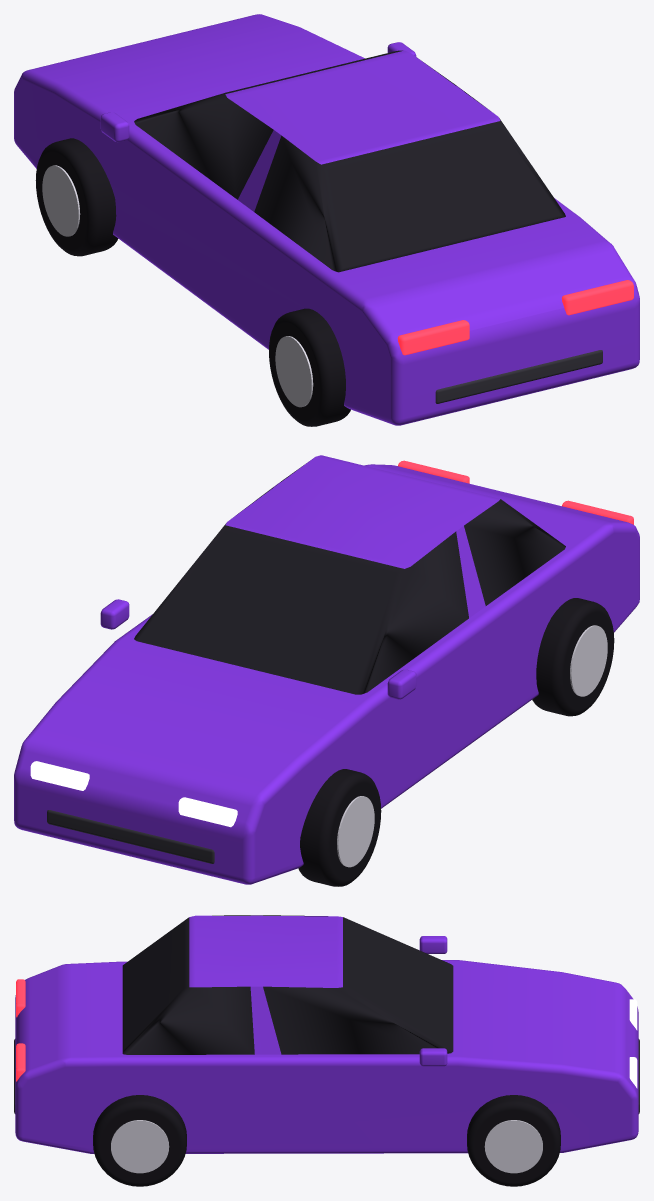
File: car_sedan.glb
The picture shows the model from 3 angles, top to bottom: view 1: azimuth 30°, elevation 25°; view 2: azimuth 150°, elevation 25°; view 3: azimuth 270°, elevation 25°; orthographic projection. The views are drawn at different scales.
Visible parts, largest first — view 1: Body, Cabin, W-11Tyre, W-1-1Tyre, RearStrip, W-11Rim, W-1-1Rim, Tail-1, Tail1, Mirror-1; view 2: Body, Cabin, W-11Tyre, W-1-1Tyre, FrontStrip, W-1-1Rim, W-11Rim, Head-1, Head1, Mirror1, Mirror-1; view 3: Body, Cabin, W11Tyre, W1-1Tyre, W1-1Rim, W11Rim, Mirror1, Mirror-1.
Part boxes in pixels (left/top/right/bottom): Body: left=14, top=14, right=639, bottom=425; Cabin: left=134, top=50, right=565, bottom=272; W-11Tyre: left=35, top=138, right=118, bottom=256; W-1-1Tyre: left=269, top=308, right=350, bottom=426; RearStrip: left=435, top=350, right=602, bottom=403; W-11Rim: left=42, top=165, right=80, bottom=236; W-1-1Rim: left=275, top=336, right=313, bottom=407; Tail-1: left=397, top=320, right=469, bottom=355; Tail1: left=561, top=280, right=633, bottom=315; Mirror-1: left=100, top=112, right=129, bottom=142; Body: left=14, top=464, right=639, bottom=884; Cabin: left=134, top=455, right=565, bottom=694; W-11Tyre: left=298, top=769, right=381, bottom=886; W-1-1Tyre: left=532, top=598, right=614, bottom=716; FrontStrip: left=47, top=810, right=214, bottom=863; W-1-1Rim: left=570, top=625, right=607, bottom=696; W-11Rim: left=337, top=796, right=374, bottom=867; Head-1: left=178, top=797, right=237, bottom=827; Head1: left=30, top=761, right=89, bottom=790; Mirror1: left=100, top=599, right=129, bottom=629; Mirror-1: left=387, top=669, right=416, bottom=699; Body: left=15, top=960, right=638, bottom=1153; Cabin: left=122, top=915, right=453, bottom=1054; W11Tyre: left=467, top=1095, right=560, bottom=1186; W1-1Tyre: left=93, top=1095, right=186, bottom=1186; W1-1Rim: left=111, top=1120, right=169, bottom=1173; W11Rim: left=484, top=1120, right=542, bottom=1173; Mirror1: left=419, top=1048, right=447, bottom=1066; Mirror-1: left=419, top=936, right=447, bottom=953.
Size of the model in its own units: 2.02 by 1.44 by 4.52.
